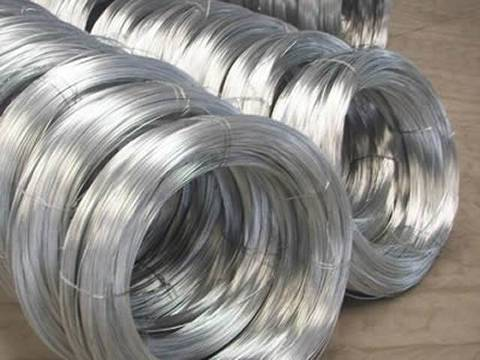Nonrec_Tangler: (3, 8, 447, 340)
